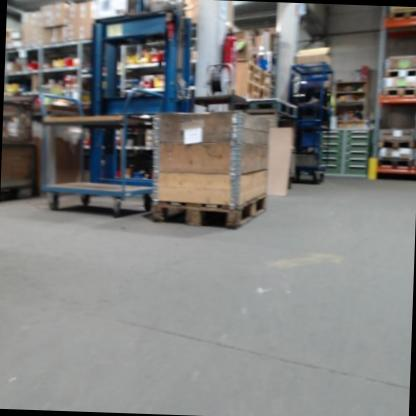pallet: (151, 188, 267, 229), (383, 84, 416, 98), (384, 66, 416, 80), (379, 138, 415, 149), (377, 157, 414, 167), (389, 8, 416, 21)
stillage: (1, 88, 44, 204)
